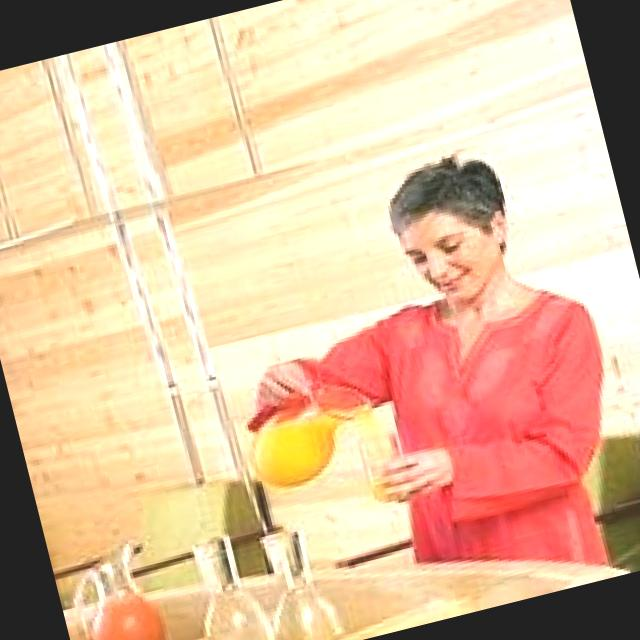no_vest: (324, 255, 634, 598)
